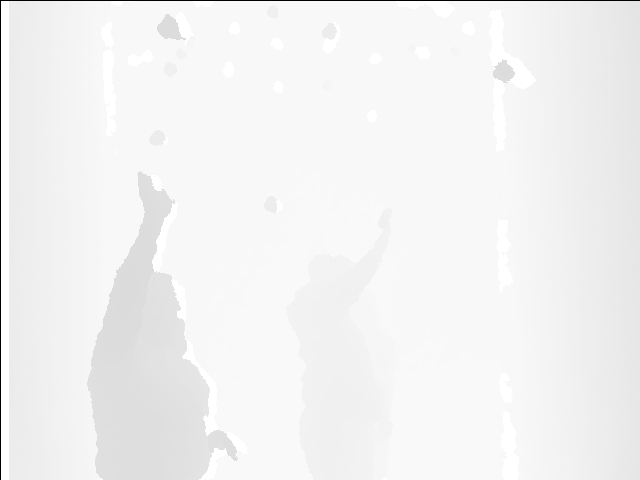hand: (134, 169, 176, 218), (375, 208, 398, 236)
